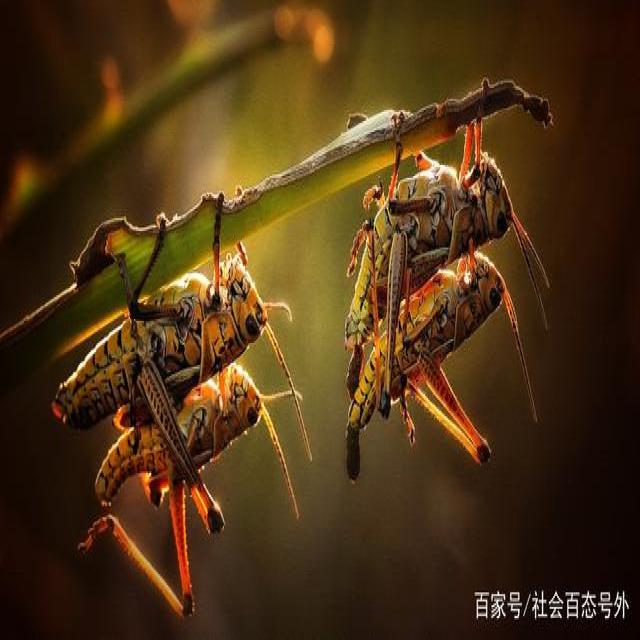ZhaMeng: (42, 239, 316, 446), (317, 122, 528, 381), (82, 363, 306, 591), (333, 240, 517, 507)
